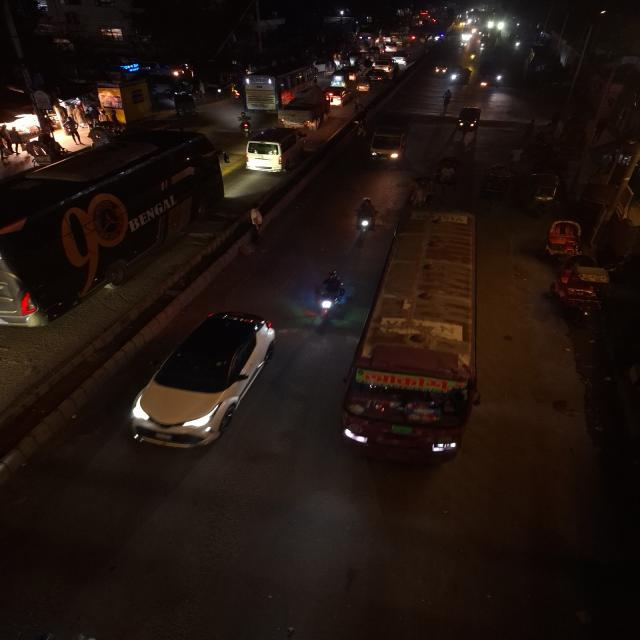bicycle: (439, 88, 453, 110)
bus: (0, 127, 220, 335), (345, 204, 493, 470), (239, 61, 320, 110)
car: (121, 306, 283, 452), (242, 126, 308, 176), (322, 84, 352, 108), (330, 65, 359, 86)
cng: (356, 78, 372, 94), (432, 62, 447, 77)
motorcycle: (308, 267, 348, 329), (350, 195, 380, 243), (234, 112, 256, 136)
pickup_van: (364, 113, 414, 170)
rickshaw: (546, 252, 616, 320), (539, 218, 588, 262), (425, 154, 462, 202), (479, 162, 515, 208), (452, 105, 486, 139), (170, 92, 200, 118)
truck: (276, 98, 330, 130)
